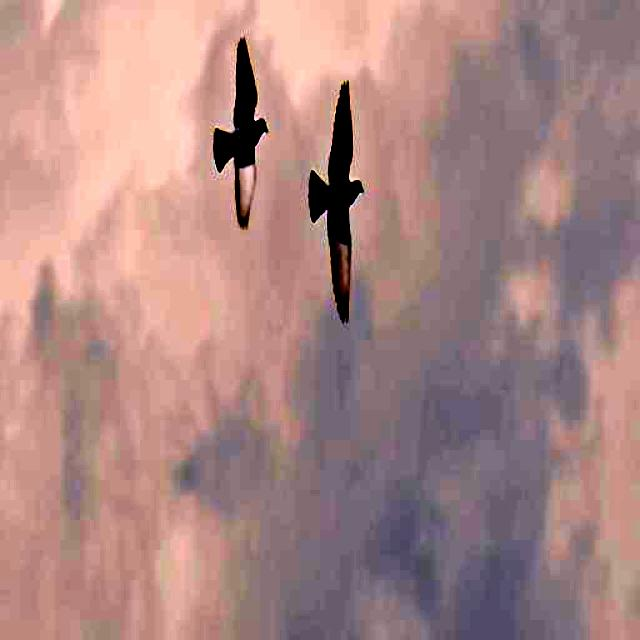airplane: (305, 65, 370, 340), (202, 20, 272, 244)
